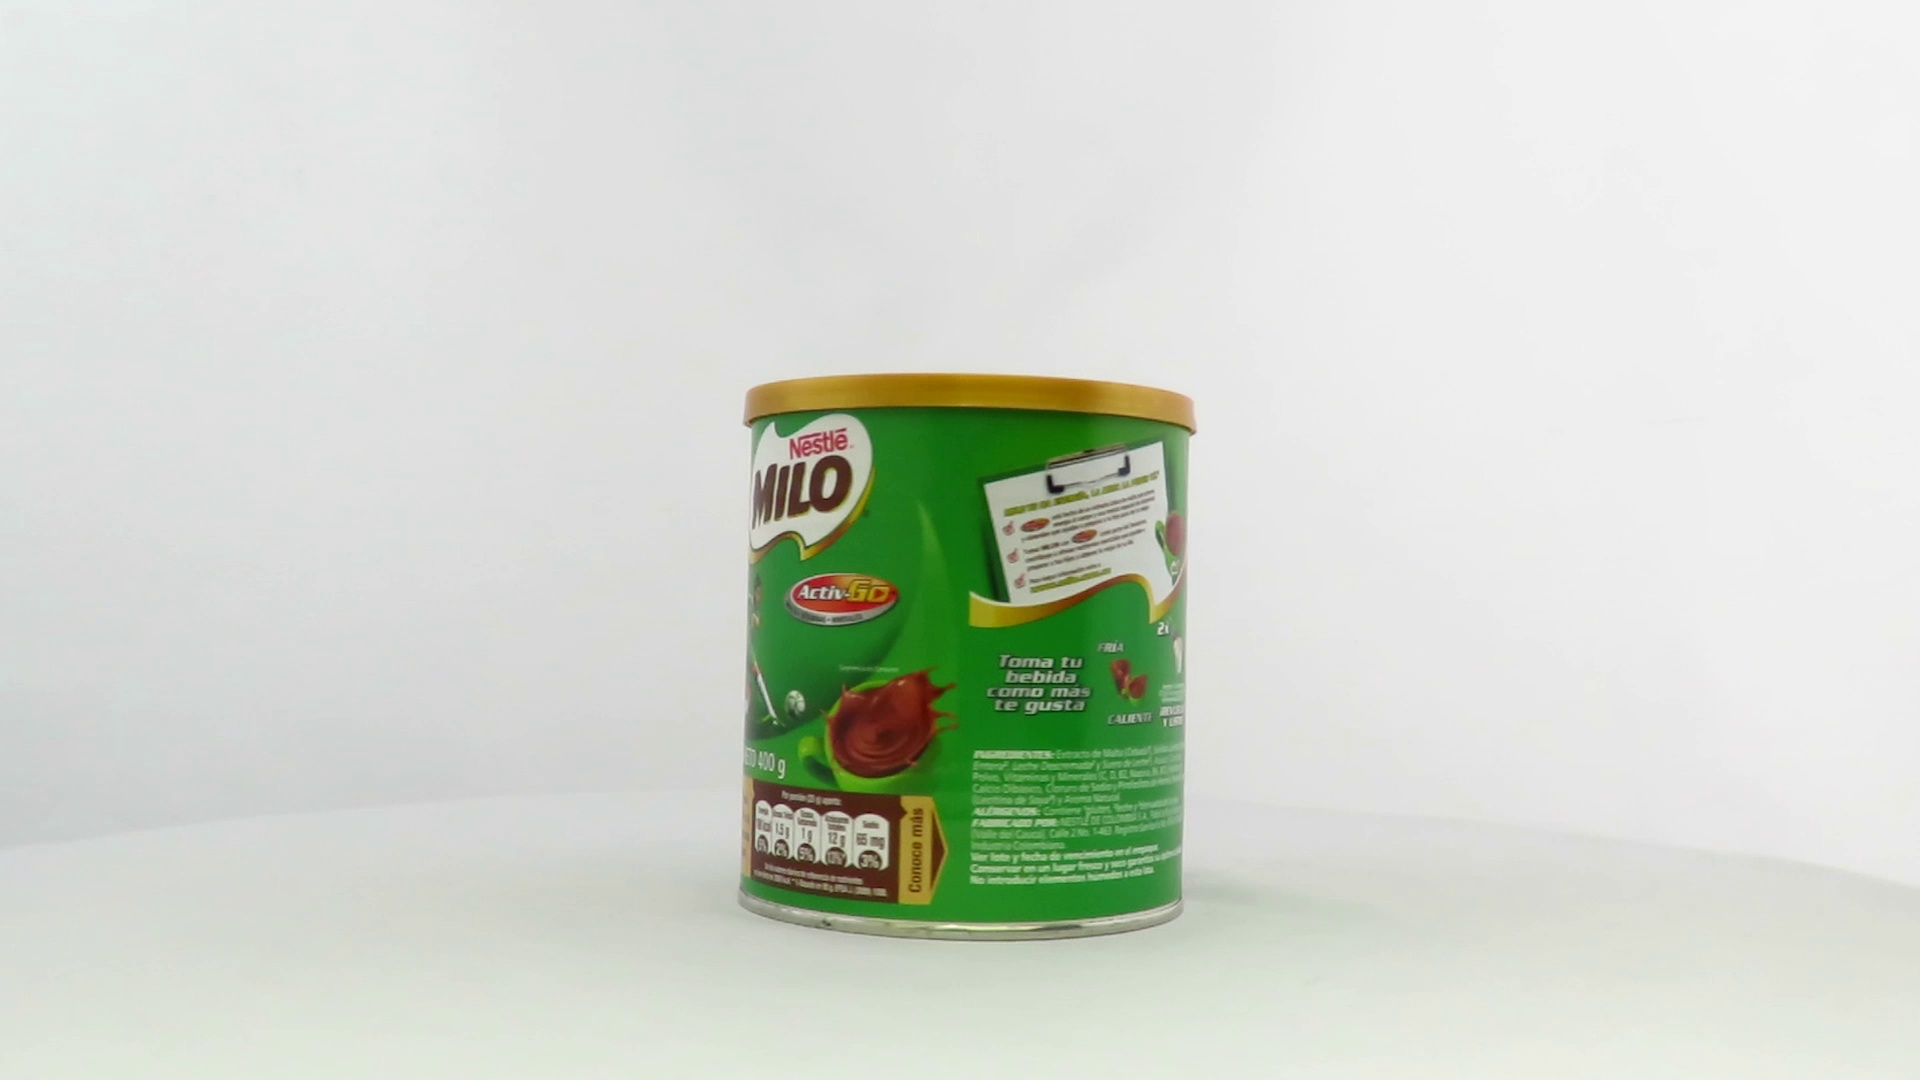COL0170203LAT40000: (732, 368, 1203, 948)
